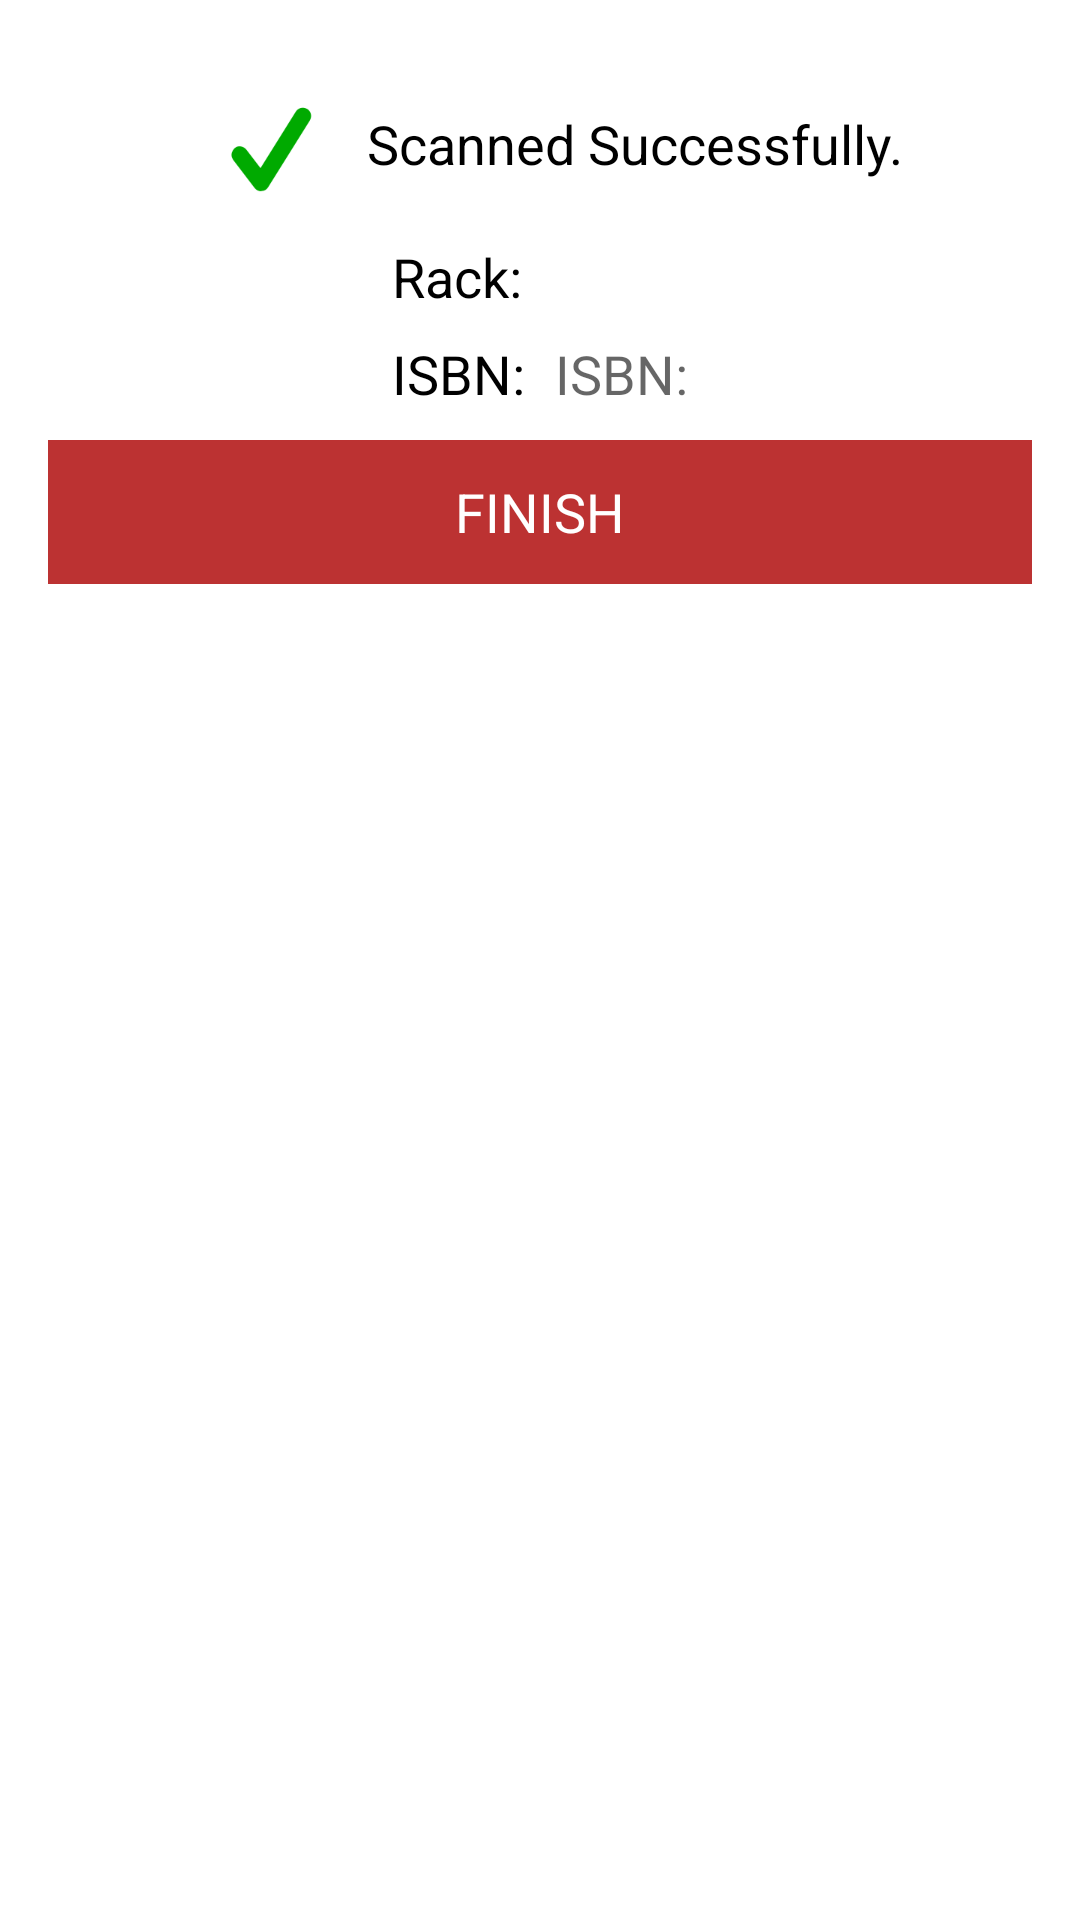

Point at icon controls on the screen. Image size 1080 × 1920, points as (x=x, y=y).
sucess: (x=271, y=149)
